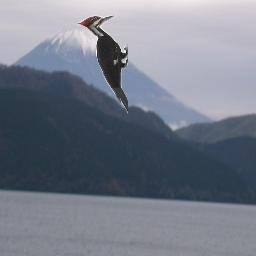Woodpecker: (77, 15, 128, 115)
